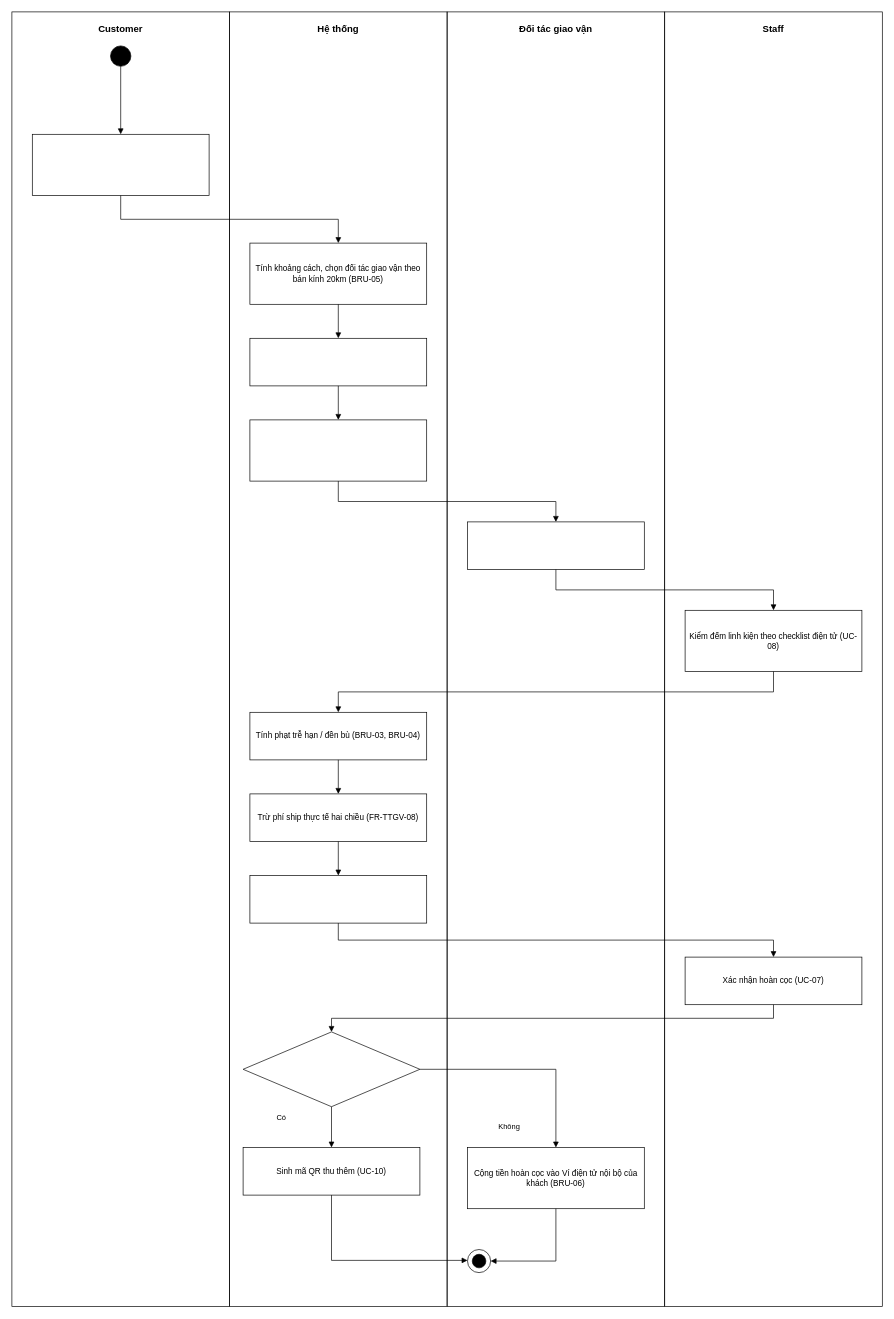
Some shapes in this 894 by 1319 pixel diagram are drawn without their labels. Here are the shapes that lost their labels. From the top down, the centre of each, then its label:
At point (120, 165): "Đến hạn trả, xác nhận địa chỉ lấy hàng trả (mặc định = địa chỉ nhận)".
At point (338, 362): "Tính phí ship chiều trả (BRU-05)".
At point (338, 450): "Gọi API đối tác giao vận đã chọn tạo yêu cầu lấy hàng (FR-TTGV-04)".
At point (555, 545): "Lấy hàng từ khách, giao về kho".
At point (338, 899): "Tính số tiền hoàn cọc cuối cùng".
At point (331, 1069): "Còn thiếu tiền?".
